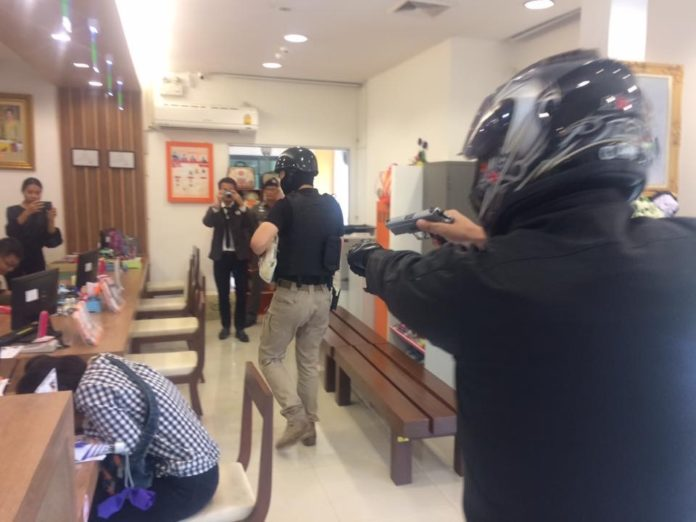Helmet: (443, 42, 674, 216), (272, 141, 326, 186)
gun: (366, 196, 459, 249)
